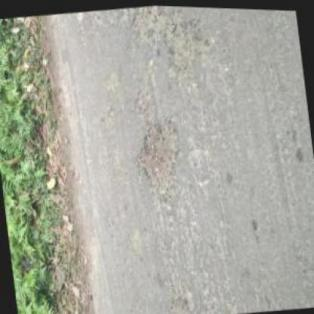Hueco: (133, 116, 186, 206), (160, 5, 203, 76)
